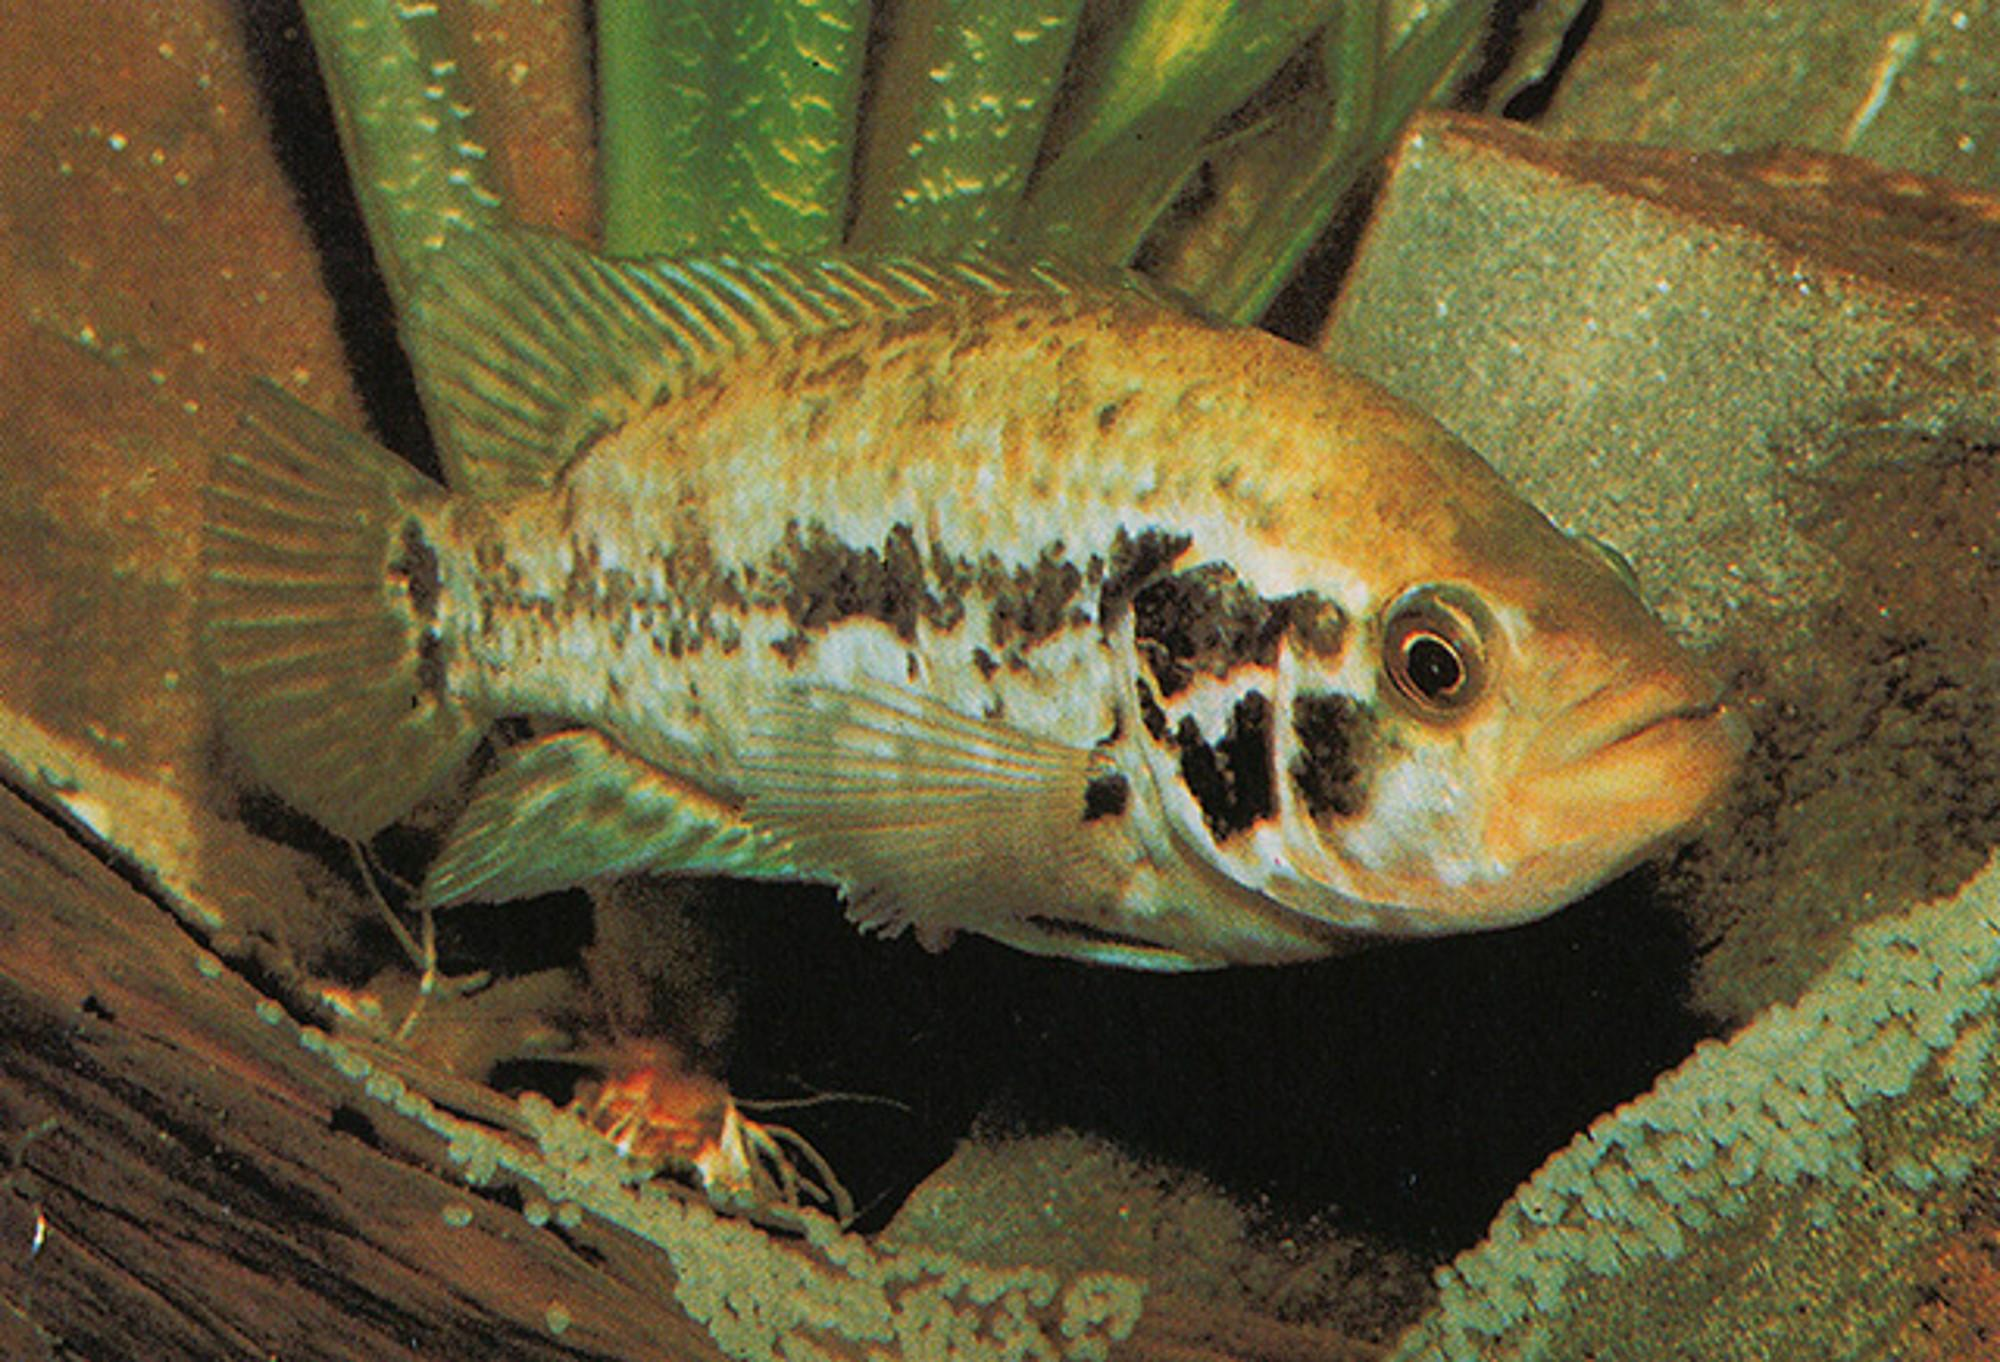Climbing Perch: (198, 223, 1760, 1017)
